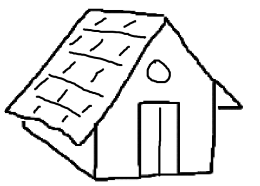big_house: (0, 0, 259, 185)
door: (131, 98, 185, 179)
open_window: (144, 56, 173, 85)
roof: (3, 2, 245, 146)
wall: (85, 12, 230, 183)
